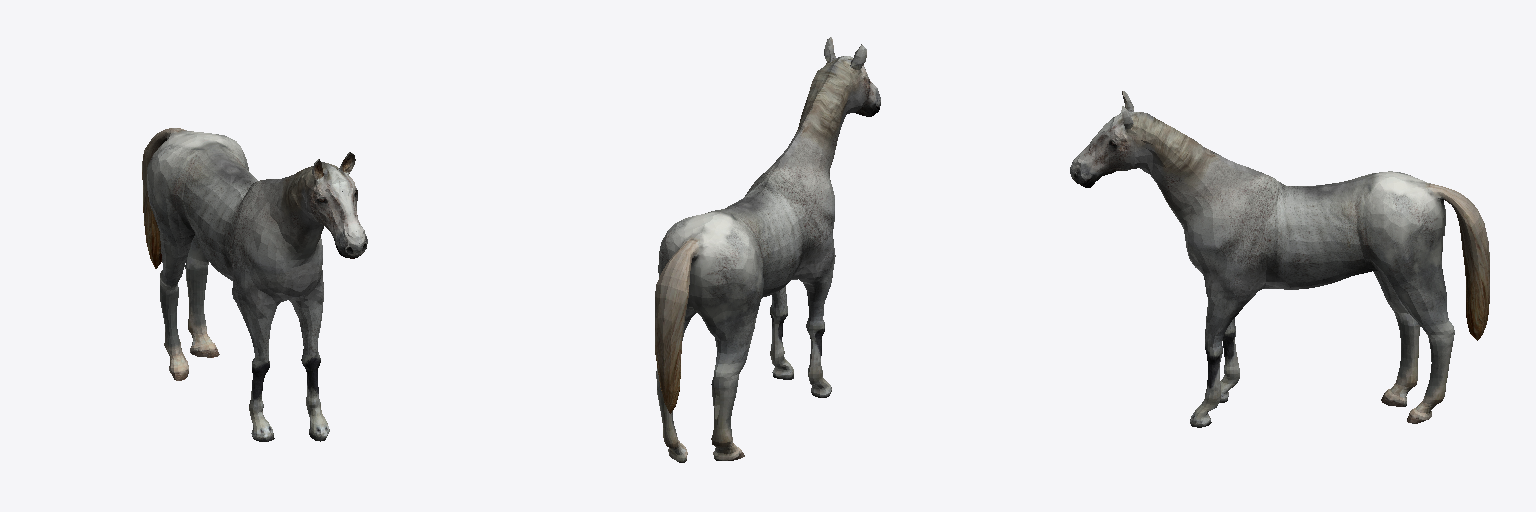
The picture shows the model from 3 angles: view 1: azimuth 30°, elevation 25°; view 2: azimuth 150°, elevation 25°; view 3: azimuth 270°, elevation 25°; orthographic projection.
Parts seen in each view (by area): view 1: HorseB_White; view 2: HorseB_White; view 3: HorseB_White.
Boxes of the visible parts, x1=… form: HorseB_White: x1=142, y1=128, x2=367, y2=441; HorseB_White: x1=655, y1=37, x2=880, y2=462; HorseB_White: x1=1070, y1=91, x2=1489, y2=427.
Size of the model in its own units: 664 by 2176 by 2622.
1 materials, 1 textured.